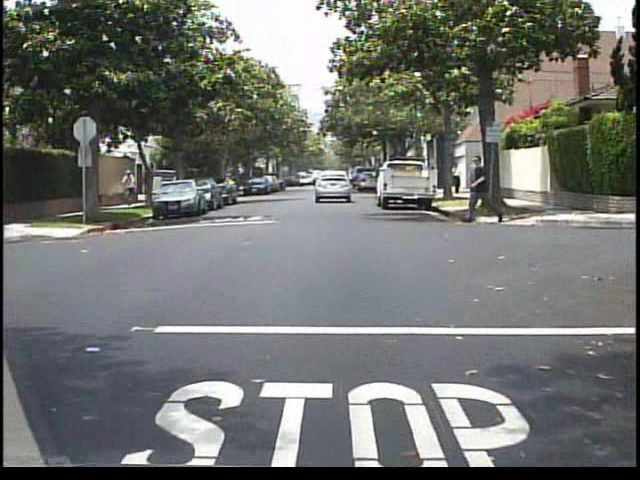person: (457, 152, 505, 228), (119, 167, 142, 204), (169, 169, 187, 203), (451, 160, 464, 198)
